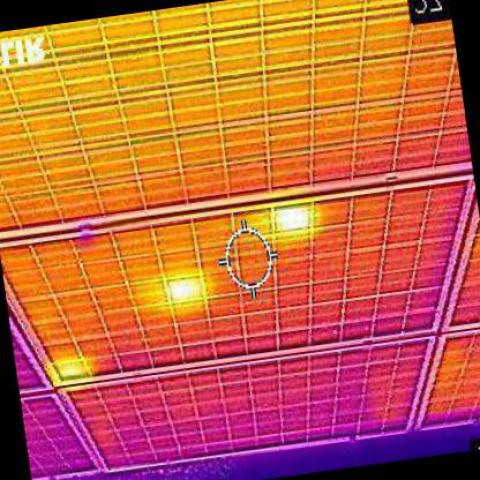fault: (277, 209, 318, 228), (165, 278, 198, 300), (55, 365, 89, 376)
